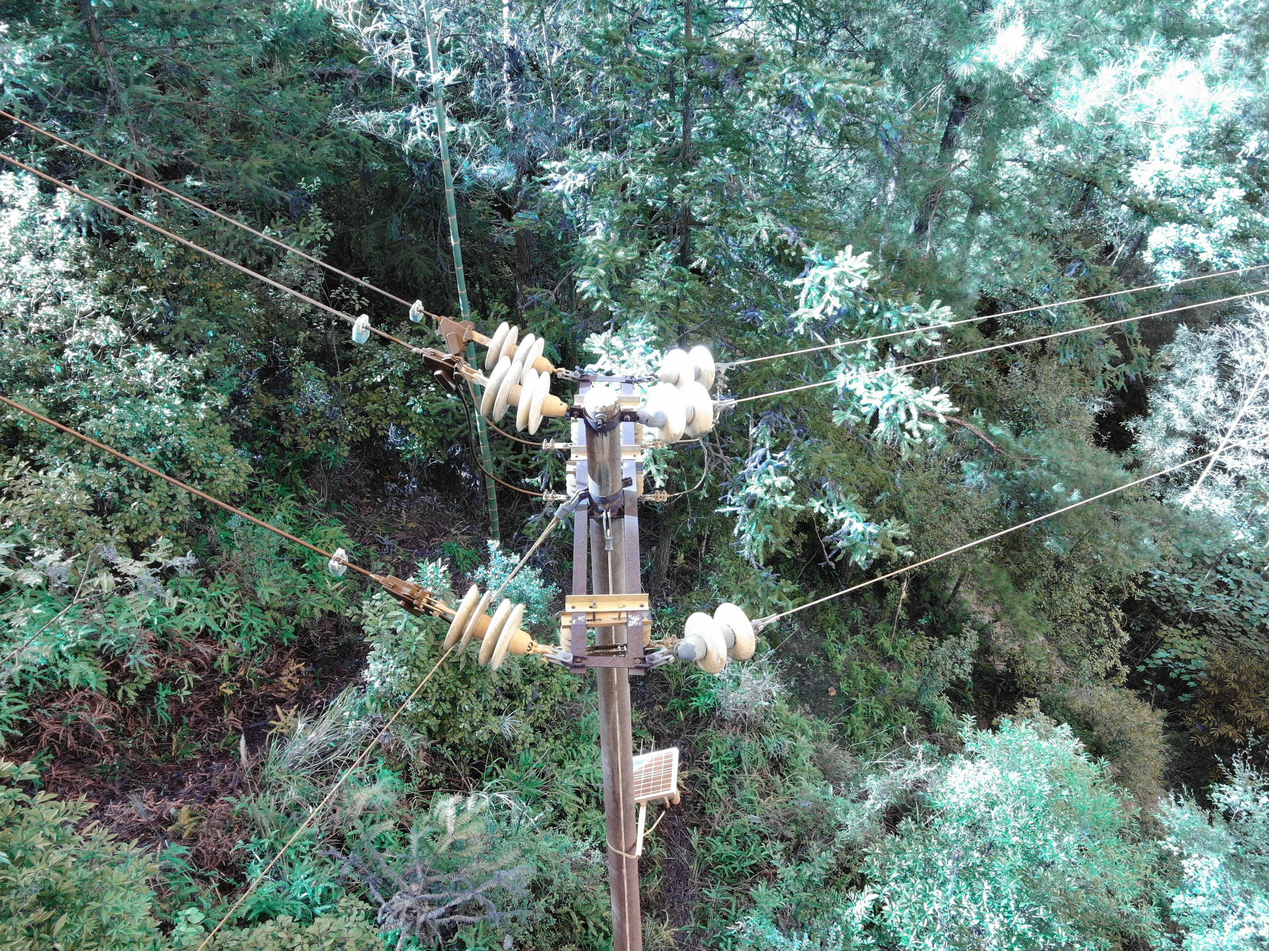severe_soiling_no_discharge_whole: (444, 581, 538, 673), (474, 354, 567, 434), (674, 601, 754, 673), (632, 380, 716, 444), (485, 322, 556, 379), (651, 343, 716, 391)
